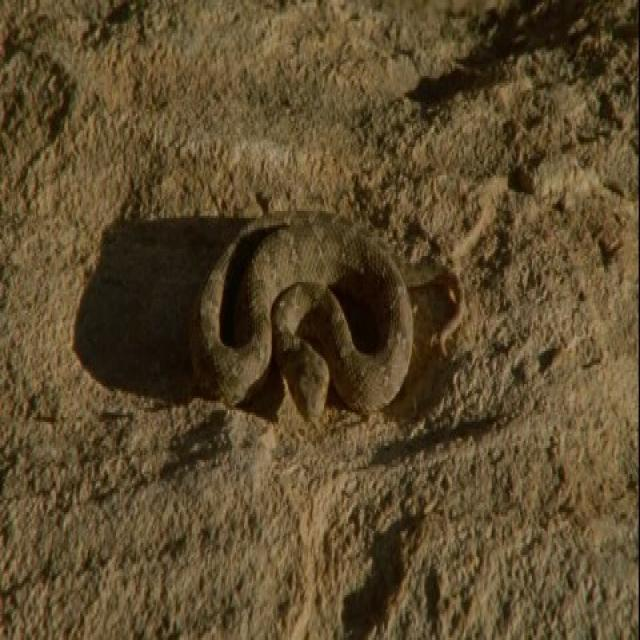Snake: (186, 202, 474, 432)
